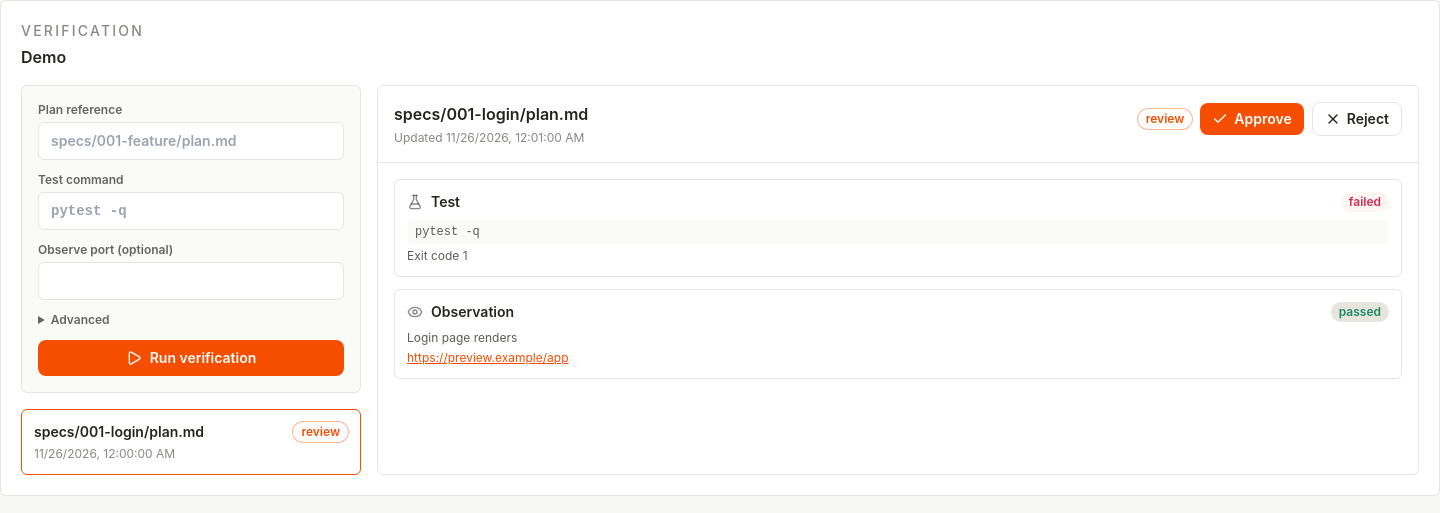
Test: VerificationPanel › approves a run awaiting review
This screenshot has width=1440, height=513.
Click the button "Approve": (1252, 119) [1200, 103, 1304, 135]
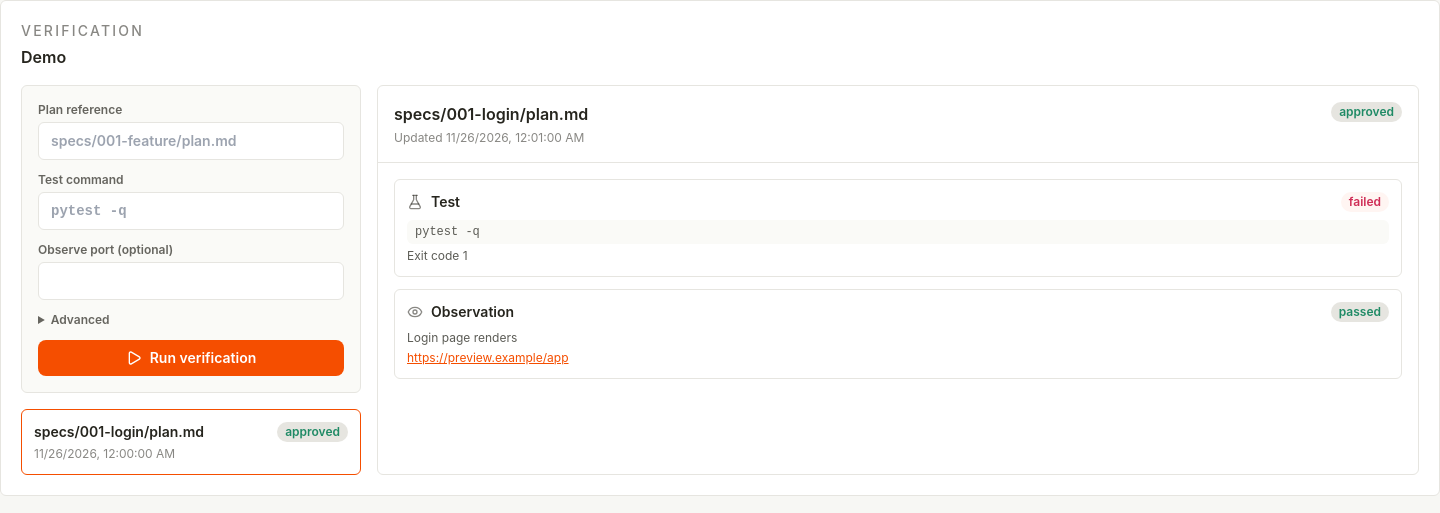
Expected: the text "approved" below "Advanced" is shown, [285, 424, 340, 439]
